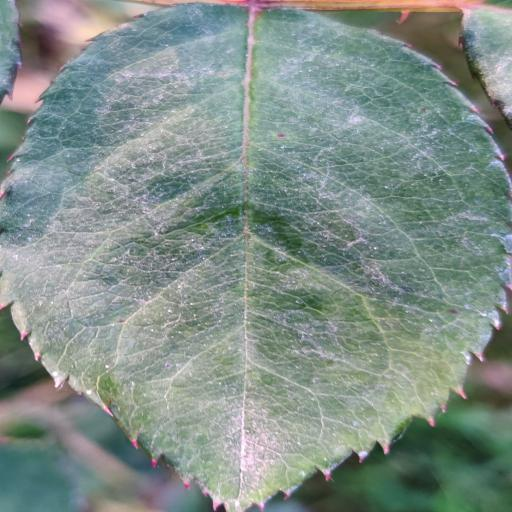healthy_leaf: (0, 4, 508, 510)
